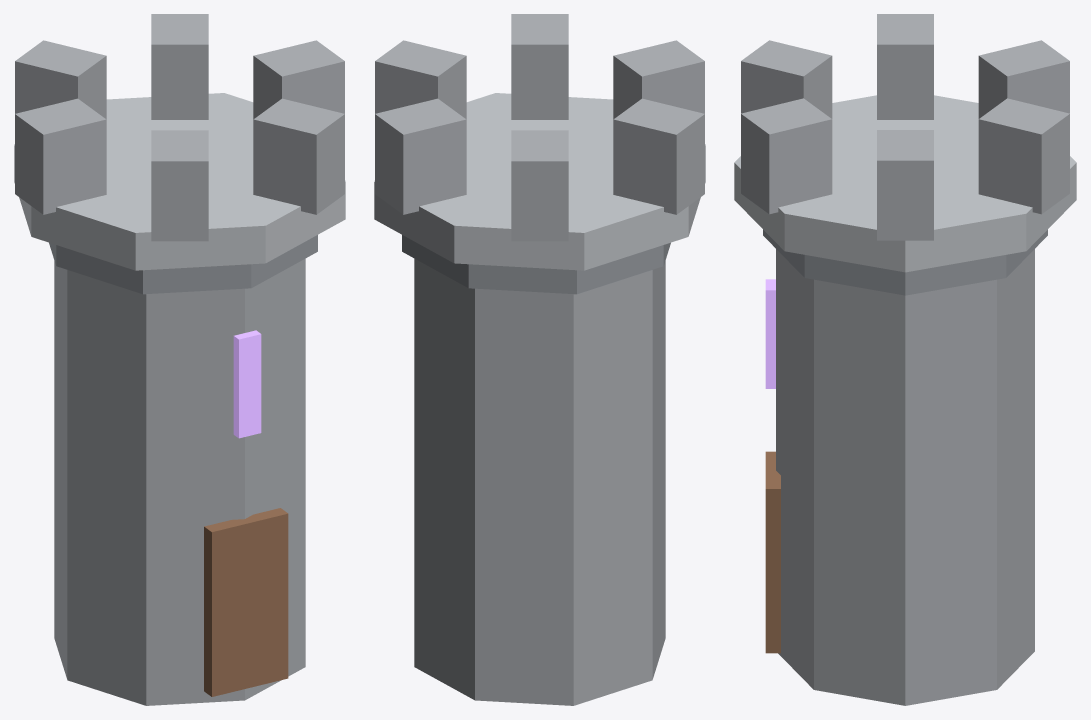
Rendered from turret.glb.
The picture shows the model from 3 angles, left to right: view 1: azimuth 30°, elevation 25°; view 2: azimuth 150°, elevation 25°; view 3: azimuth 270°, elevation 25°; orthographic projection.
Visible parts, largest first — view 1: shaft, deck, door.004, merlon.005, merlon.003, merlon.004, merlon.001, band.002, merlon, merlon.002, slit; view 2: shaft, deck, merlon.001, merlon.003, merlon.002, merlon.005, band.002, merlon, merlon.004; view 3: shaft, deck, merlon.001, merlon.005, merlon, merlon.003, band.002, merlon.002, merlon.004, door.004, slit.
Part boxes in pixels (<box>): shaft: <box>54,258,305,705</box>; deck: <box>14,93,345,270</box>; door.004: <box>204,508,288,696</box>; merlon.005: <box>253,98,344,214</box>; merlon.003: <box>15,98,106,214</box>; merlon.004: <box>151,130,208,241</box>; merlon.001: <box>151,14,208,119</box>; band.002: <box>49,235,317,294</box>; merlon: <box>253,40,344,119</box>; merlon.002: <box>15,40,106,119</box>; slit: <box>233,330,261,438</box>; shaft: <box>414,258,665,705</box>; deck: <box>374,93,705,270</box>; merlon.001: <box>375,98,466,214</box>; merlon.003: <box>613,98,704,214</box>; merlon.002: <box>511,130,568,241</box>; merlon.005: <box>511,14,568,119</box>; band.002: <box>402,235,670,294</box>; merlon: <box>375,40,466,119</box>; merlon.004: <box>613,40,704,119</box>; shaft: <box>776,249,1034,705</box>; deck: <box>734,95,1076,272</box>; merlon.001: <box>978,98,1069,214</box>; merlon.005: <box>741,98,832,214</box>; merlon: <box>877,130,933,240</box>; merlon.003: <box>877,14,933,119</box>; band.002: <box>763,229,1047,295</box>; merlon.002: <box>978,40,1069,118</box>; merlon.004: <box>741,40,832,118</box>; door.004: <box>765,451,780,653</box>; slit: <box>765,279,775,388</box>.
Bounding box in the file's own units: 1.34 × 2.4 × 1.32.
